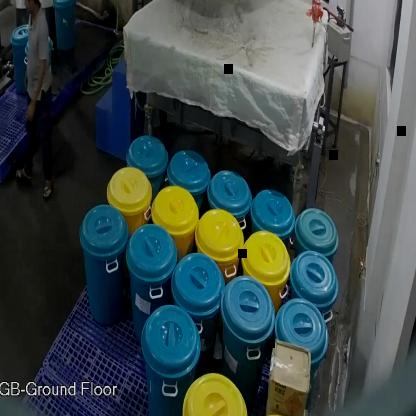no_shoes: (41, 178, 53, 201), (15, 168, 30, 183)
